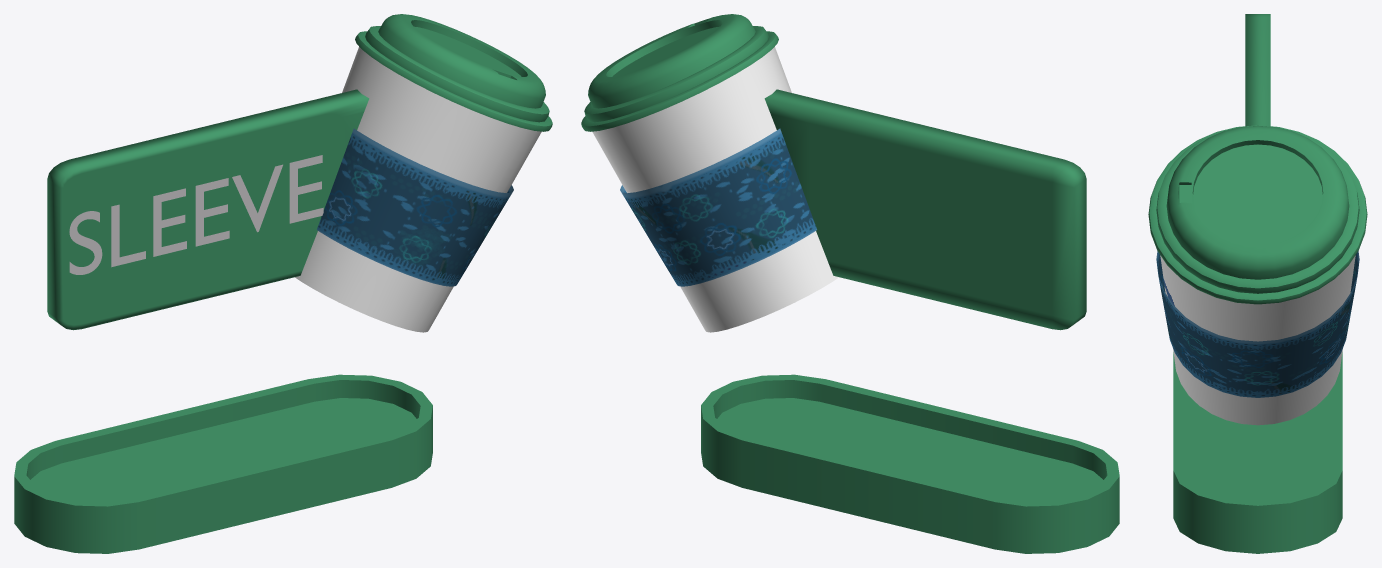
The model's file is Sleeve.fbx.
3 views of the same model, side by side, from view 1: azimuth 30°, elevation 25°; view 2: azimuth 150°, elevation 25°; view 3: azimuth 270°, elevation 25° (orthographic).
Visible parts, largest first — view 1: Cube, Cube.001, Cup.001, Cup_Sleeve.001, Cup_Head.001, Text; view 2: Cube, Cube.001, Cup.001, Cup_Sleeve.001, Cup_Head.001; view 3: Cup_Head.001, Cube, Cup.001, Cup_Sleeve.001, Cube.001.
Part boxes in pixels (left/top/right/bottom): Cube: left=14, top=374, right=432, bottom=553; Cube.001: left=47, top=89, right=369, bottom=330; Cup.001: left=295, top=47, right=541, bottom=332; Cup_Sleeve.001: left=317, top=128, right=513, bottom=286; Cup_Head.001: left=355, top=14, right=552, bottom=131; Text: left=69, top=155, right=323, bottom=274; Cube: left=701, top=374, right=1119, bottom=553; Cube.001: left=764, top=89, right=1086, bottom=330; Cup.001: left=592, top=47, right=838, bottom=332; Cup_Sleeve.001: left=620, top=128, right=816, bottom=286; Cup_Head.001: left=581, top=14, right=778, bottom=131; Cup_Head.001: left=1148, top=125, right=1367, bottom=304; Cube: left=1173, top=352, right=1342, bottom=553; Cup.001: left=1160, top=255, right=1355, bottom=425; Cup_Sleeve.001: left=1156, top=251, right=1359, bottom=397; Cube.001: left=1245, top=14, right=1270, bottom=126.
Bounding box in the file's own units: 451 × 348 × 165.
